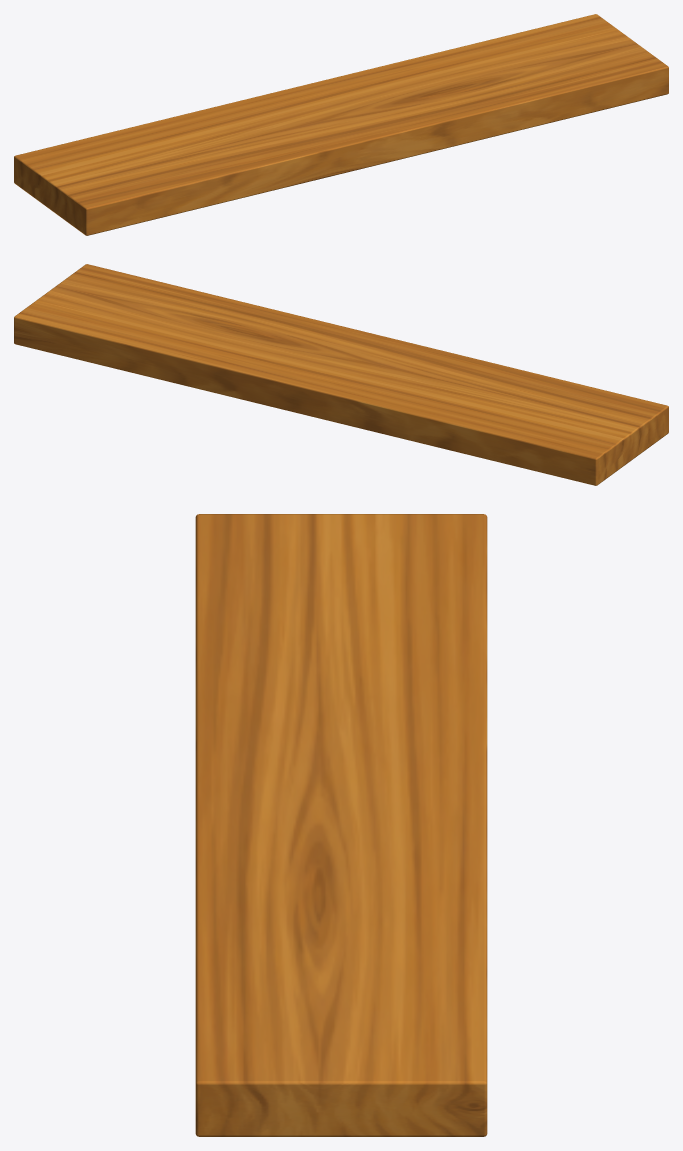
File: shelf-floating-oak.glb
3 renders of one model, top to bottom at view 1: azimuth 30°, elevation 25°; view 2: azimuth 150°, elevation 25°; view 3: azimuth 270°, elevation 25°, orthographic. The views are drawn at different scales.
Visible parts, largest first — view 1: shelf-floating-oak authored assembly; view 2: shelf-floating-oak authored assembly; view 3: shelf-floating-oak authored assembly.
Part boxes in pixels (x1=…): shelf-floating-oak authored assembly: x1=14, y1=14, x2=668, y2=235; shelf-floating-oak authored assembly: x1=14, y1=264, x2=668, y2=485; shelf-floating-oak authored assembly: x1=195, y1=514, x2=487, y2=1136.
Bounding box in the file's own units: 1.2 × 0.055 × 0.26.
1 material, 1 textured.
